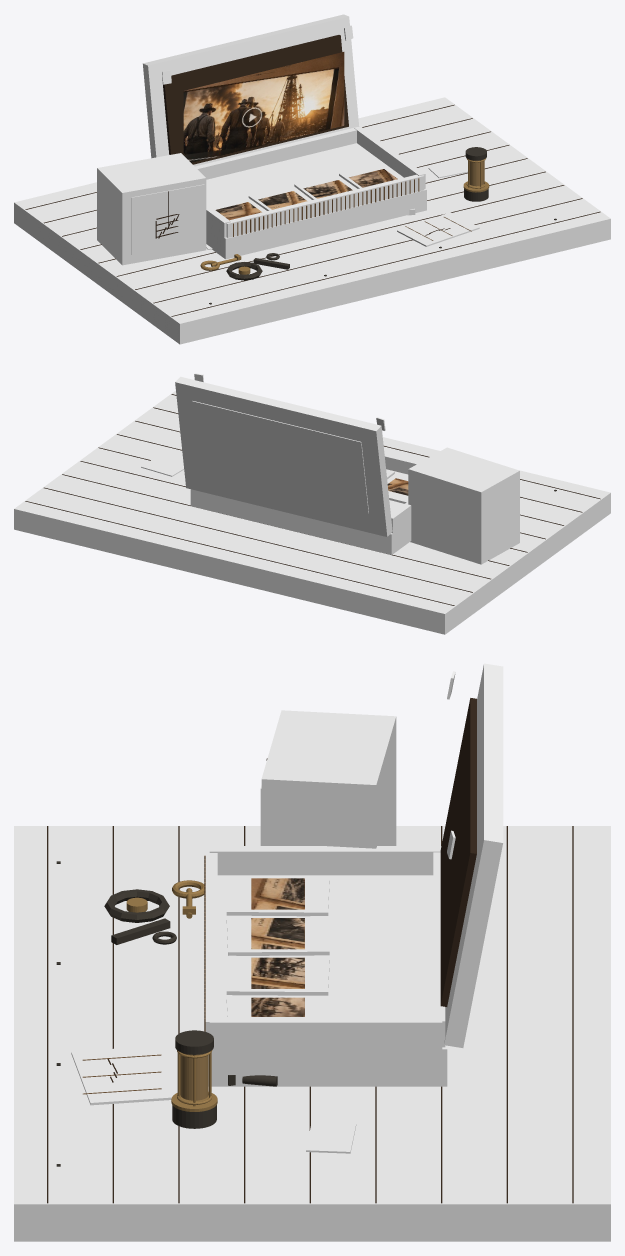
Rendered from clave-western-archive.glb.
3 views of the same model, one above another, from view 1: azimuth 30°, elevation 25°; view 2: azimuth 150°, elevation 25°; view 3: azimuth 270°, elevation 25° (orthographic). The views are drawn at different scales.
Visible parts, largest first — view 1: TABLE · six-foot work surface, LID · replaceable hero film still, BOX · upright hinged lid, STANDING CARTON · BLACK GOLD GALLERY, LID · printed screen frame, BOX · lower corrugated base, BOX · interior floor, Carton · front print panel, BOX · front wall, BOX · rear hinge lip, MAP · folded sheet, BOX · side wall.001 (+8 smaller); view 2: TABLE · six-foot work surface, LID · paper mat behind screen, BOX · upright hinged lid, STANDING CARTON · BLACK GOLD GALLERY, BOX · lower corrugated base, TABLE · plank seam 9, TABLE · plank seam 8, TAG · archive card, BOX · front wall, BOX · side wall; view 3: TABLE · six-foot work surface, STANDING CARTON · BLACK GOLD GALLERY, BOX · interior floor, BOX · upright hinged lid, BOX · lower corrugated base, BOX · side wall.001, LID · printed screen frame, BOX · side wall, MAP · folded sheet, CARD 1 · worn paper mount, CARD 3 · worn paper mount, CARD 2 · worn paper mount (+12 smaller).
Part boxes in pixels (x1,y1,x2,y2): TABLE · six-foot work surface: (14,97,610,344); LID · replaceable hero film still: (183,52,344,162); BOX · upright hinged lid: (142,14,359,166); STANDING CARTON · BLACK GOLD GALLERY: (97,153,206,265); LID · printed screen frame: (162,35,348,164); BOX · lower corrugated base: (206,189,426,259); BOX · interior floor: (206,143,403,211); Carton · front print panel: (131,184,204,254); BOX · front wall: (226,174,424,237); BOX · rear hinge lip: (195,127,357,179); MAP · folded sheet: (397,212,479,246); BOX · side wall.001: (354,126,425,188); TABLE · six-foot work surface: (14,390,610,634); LID · paper mat behind screen: (192,401,368,513); BOX · upright hinged lid: (175,376,392,536); STANDING CARTON · BLACK GOLD GALLERY: (408,447,519,564); BOX · lower corrugated base: (190,489,411,554); TABLE · plank seam 9: (25,501,454,605); TABLE · plank seam 8: (44,487,472,592); TAG · archive card: (141,458,184,476); BOX · front wall: (384,453,420,474); BOX · side wall: (391,501,411,533); TABLE · six-foot work surface: (14,826,610,1241); STANDING CARTON · BLACK GOLD GALLERY: (261,710,396,848); BOX · interior floor: (217,875,433,1016); BOX · upright hinged lid: (444,663,503,1047); BOX · lower corrugated base: (208,1045,447,1086); BOX · side wall.001: (209,1017,442,1050); LID · printed screen frame: (440,698,476,1006); BOX · side wall: (209,846,441,875); MAP · folded sheet: (71,1046,172,1105); CARD 1 · worn paper mount: (226,876,329,916); CARD 3 · worn paper mount: (226,955,329,995); CARD 2 · worn paper mount: (226,916,329,955).
Bounding box in the file's own units: 12 × 4.23 × 8.
Materials: 14 (6 with a texture image).
